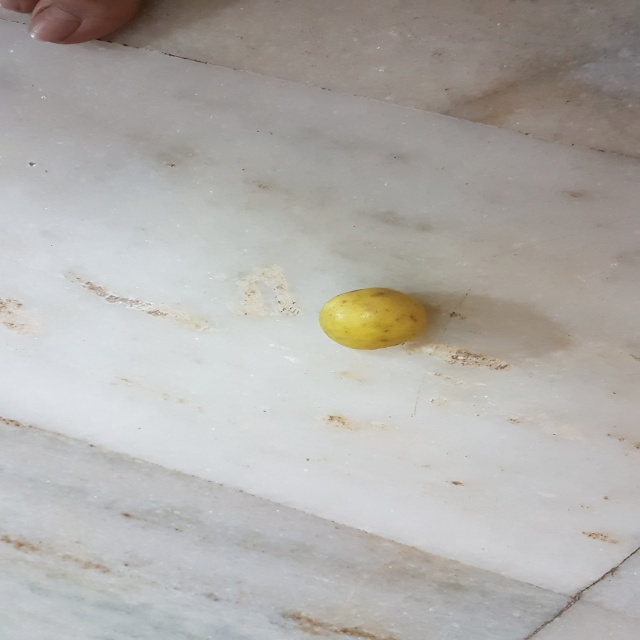lemon: (317, 279, 450, 358)
